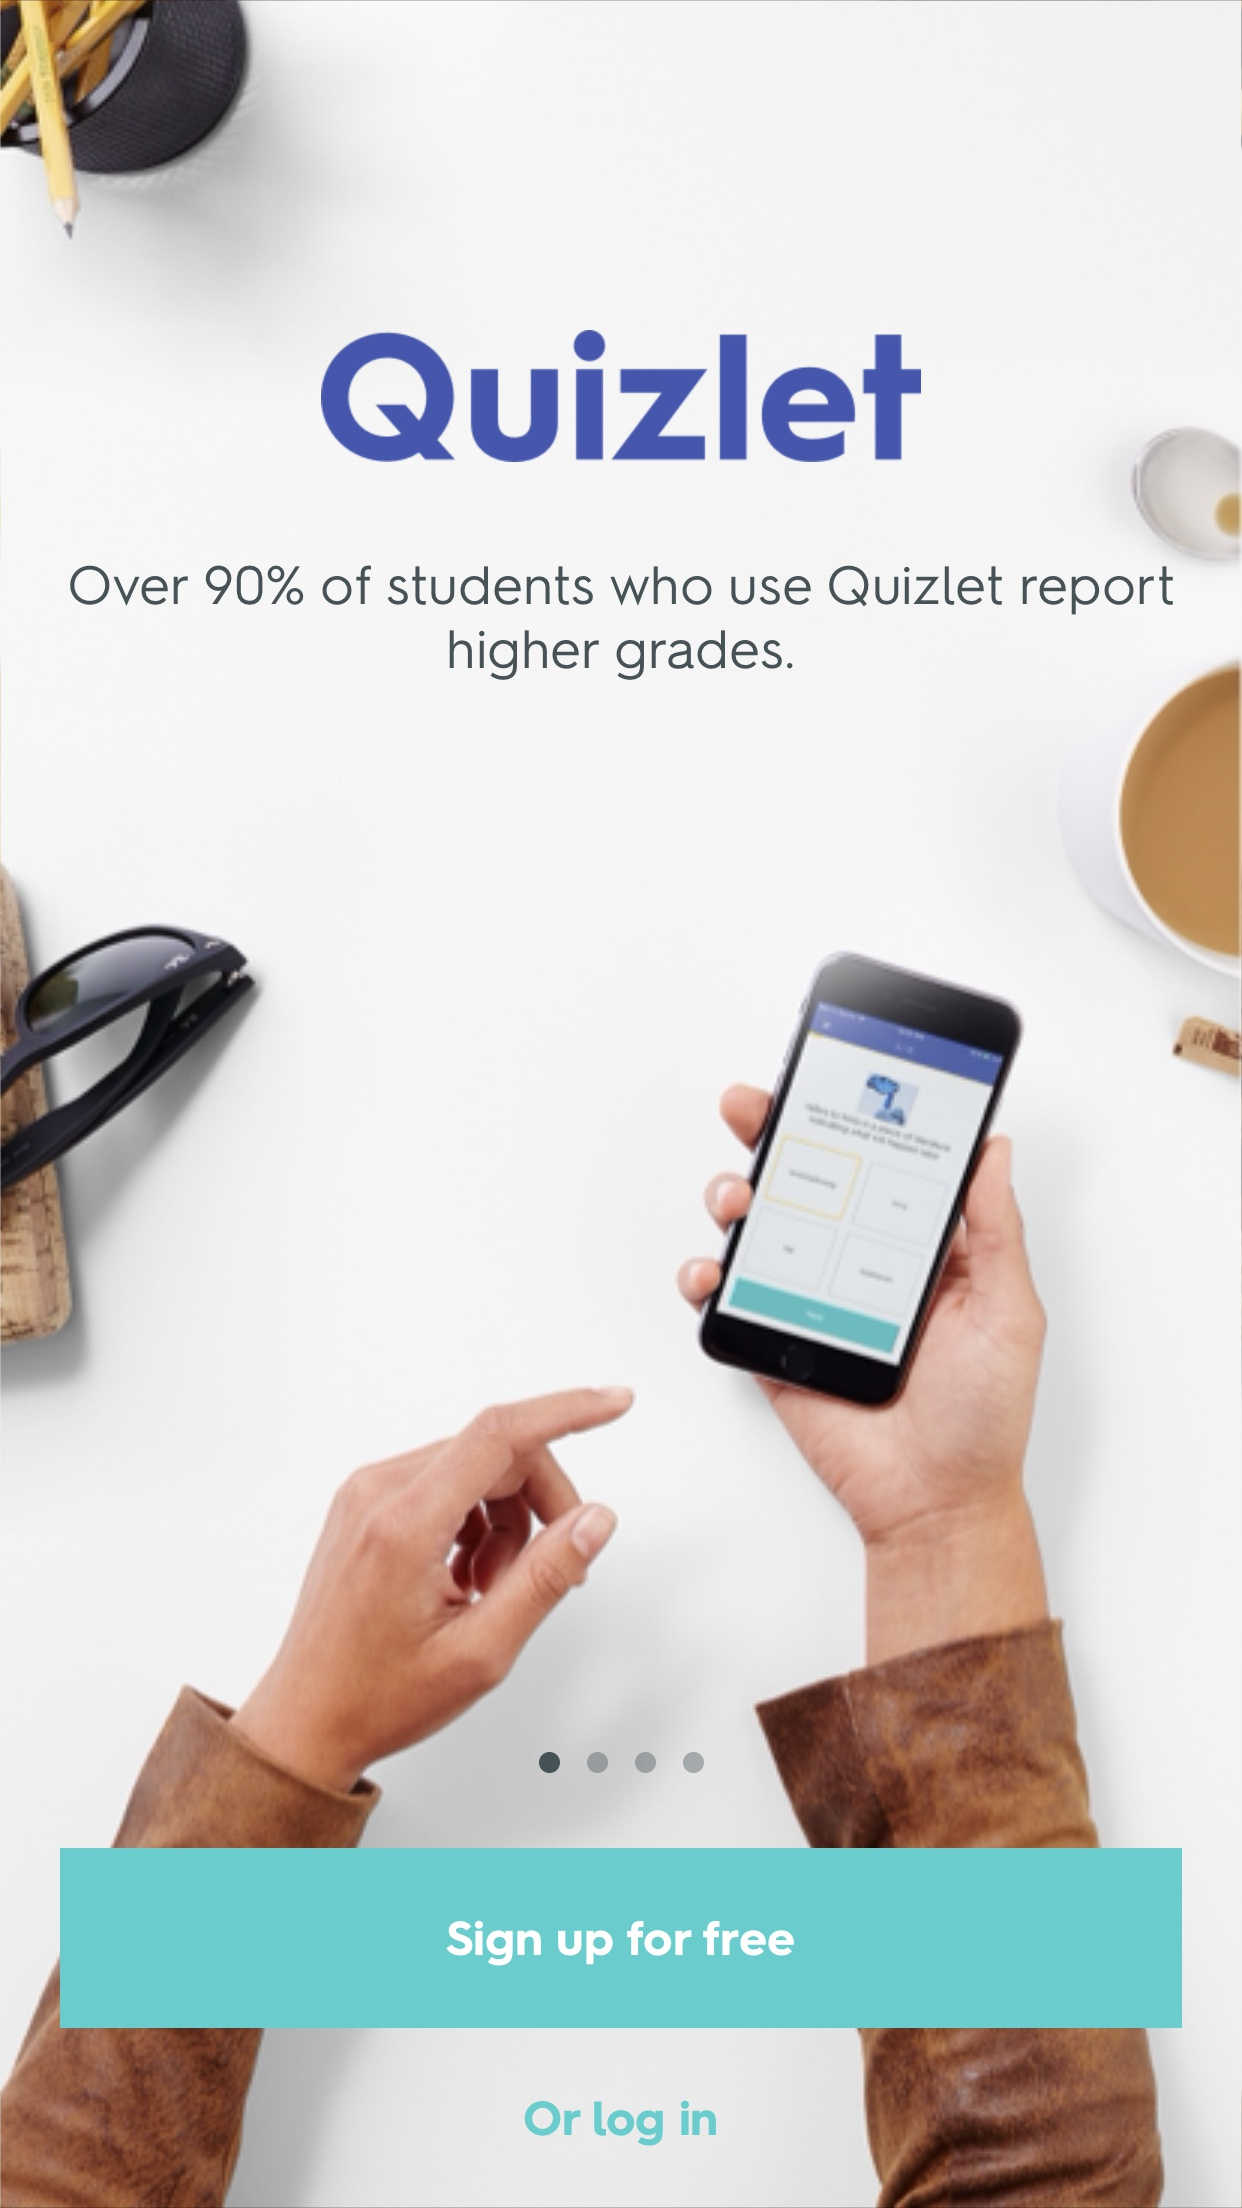BackgroundImage: (2, 2, 1242, 2208)
PageIndicator: (538, 1752, 705, 1774)
Text: (70, 566, 1174, 682), (321, 329, 922, 464), (525, 2099, 717, 2146)
TextButton: (61, 1849, 1181, 2029)
